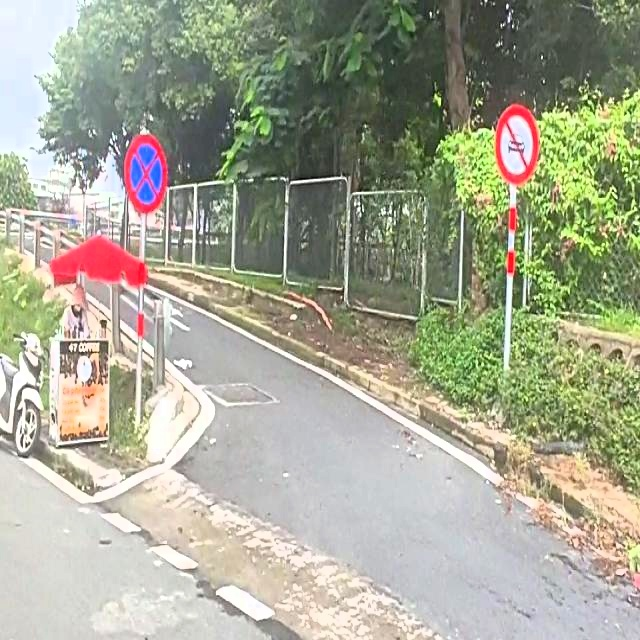P.103a: (494, 102, 540, 188)
P.130: (124, 133, 168, 217)
